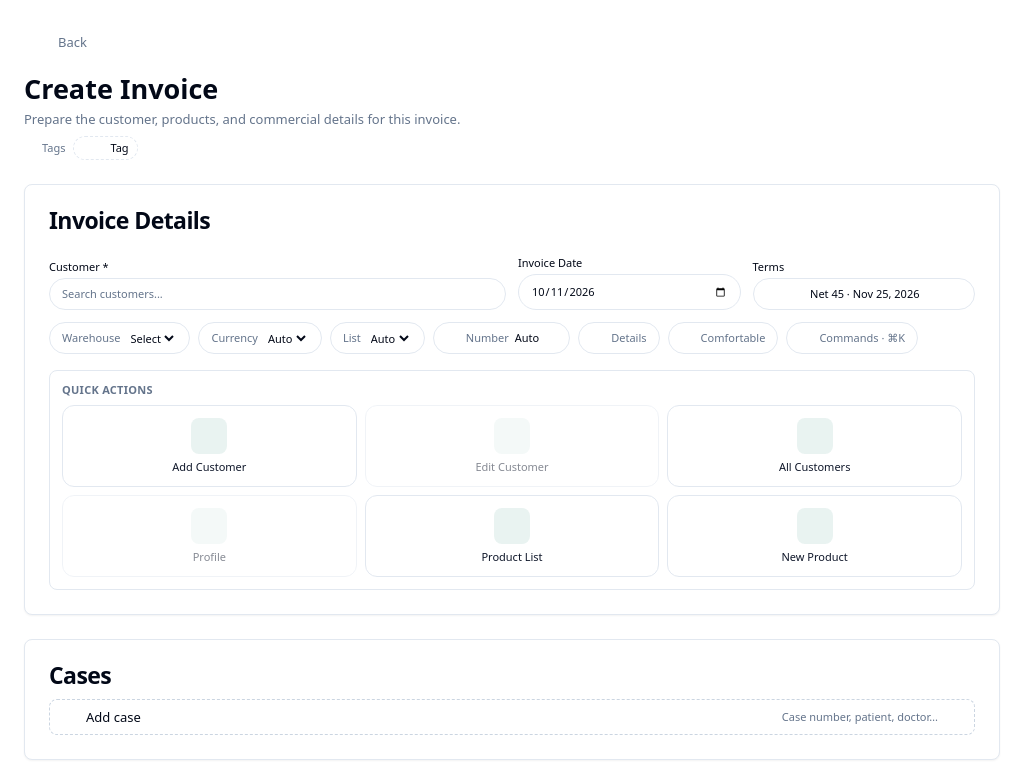
CreateInvoicePage sales settings (#315) › uses the customer's terms over the sales-settings default
The image size is (1024, 768).
Expected: the button titled "Payment terms and due date" shows "Net 45", 752,278 -> 975,310
Click the dropdown labelled "Search customers...".
click(112, 294)  # box 49,278 -> 506,310
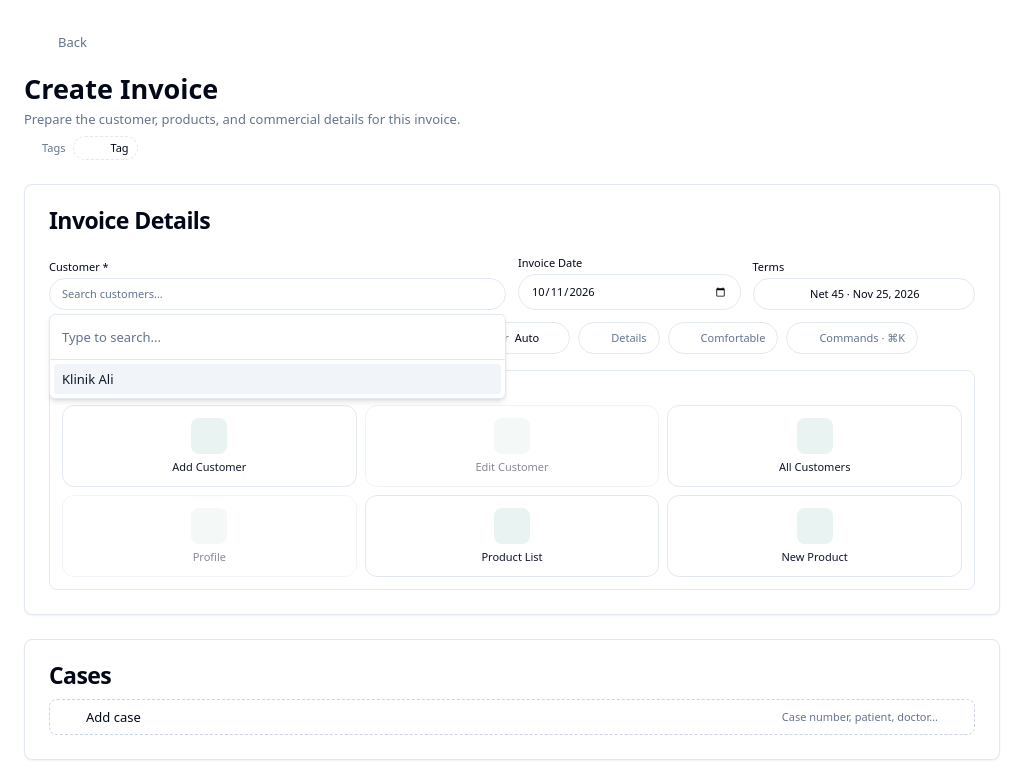
Click the option "Klinik Ali".
click(88, 379)  # box 54,364 -> 501,394
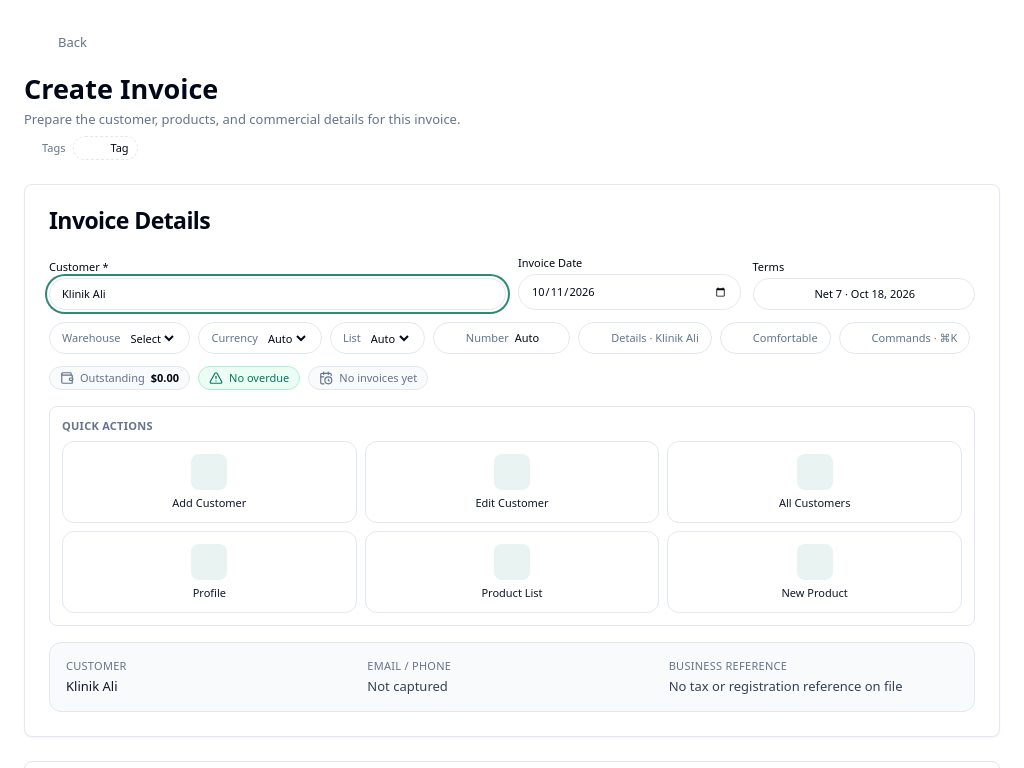
Now the button titled "Payment terms and due date" shows "Net 7", box 752,278 -> 975,310
